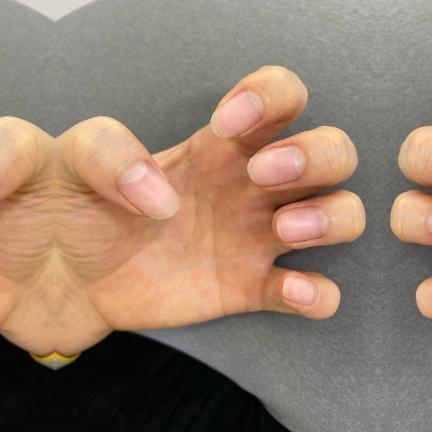Nail: (114, 161, 179, 219), (210, 90, 265, 140), (246, 145, 305, 187), (276, 207, 330, 244), (282, 275, 321, 306), (426, 211, 432, 235)
